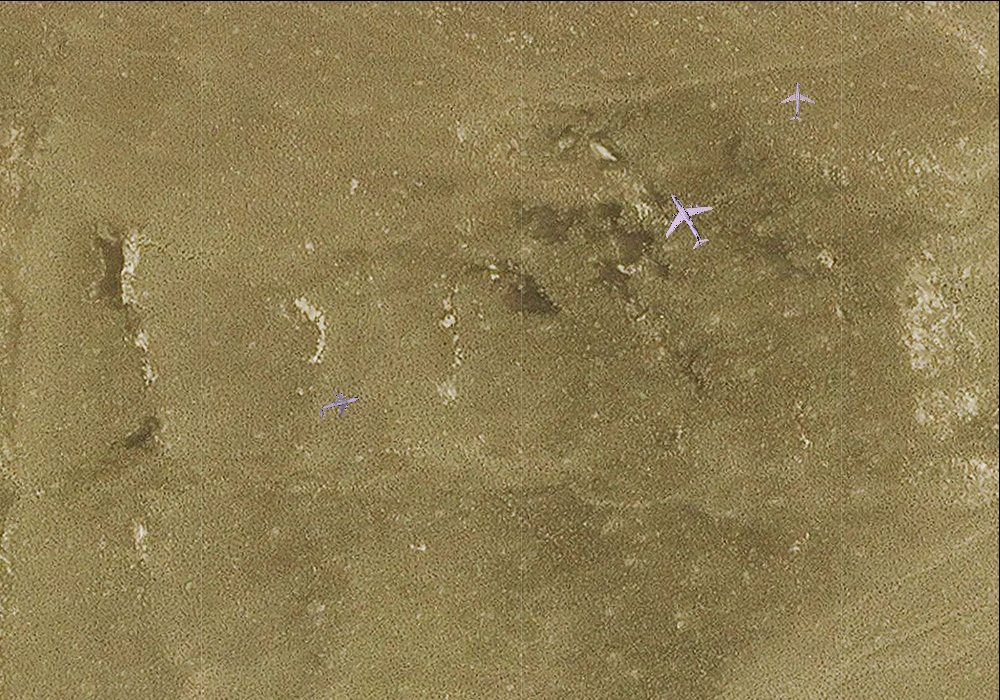plane: (646, 179, 727, 260), (314, 383, 363, 427), (778, 80, 816, 120)
